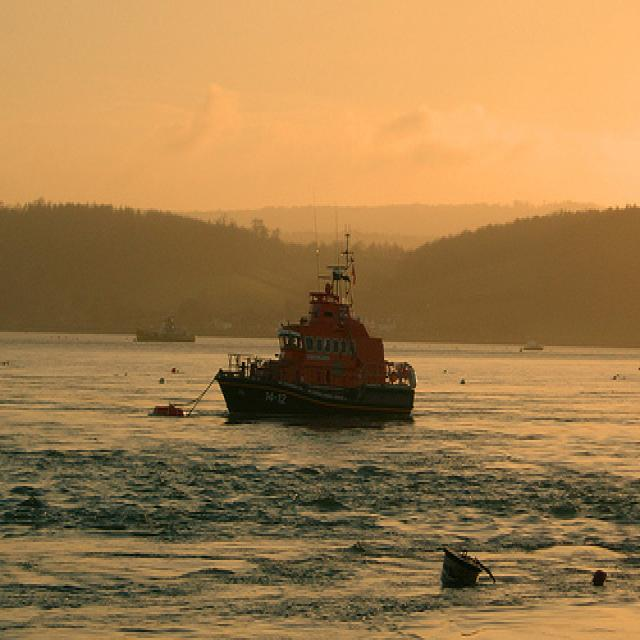Boat: (212, 261, 431, 452), (135, 300, 213, 368), (414, 547, 494, 596)
